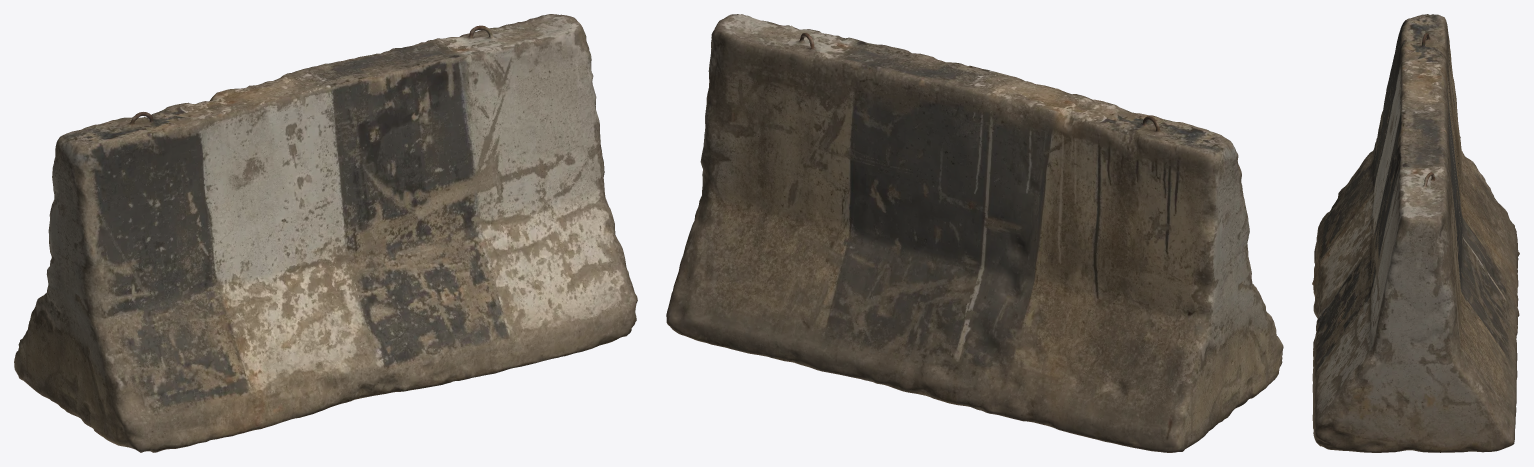
The model's file is concrete_road_barrier.glb.
3 views of the same model, side by side, from view 1: azimuth 30°, elevation 25°; view 2: azimuth 150°, elevation 25°; view 3: azimuth 270°, elevation 25° (orthographic). The views are drawn at different scales.
Parts seen in each view (by area): view 1: concrete_road_barrier; view 2: concrete_road_barrier; view 3: concrete_road_barrier.
Boxes of the visible parts, x1,y1,x2,y2 form: concrete_road_barrier: (14,14,637,452); concrete_road_barrier: (666,14,1283,452); concrete_road_barrier: (1312,14,1519,452).
Bounding box in the file's own units: 1.55 × 0.8309 × 0.6388.
Materials: 1 (1 with a texture image).
